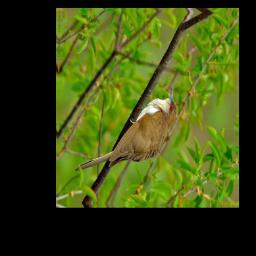Cuckoo: (72, 85, 178, 175)
